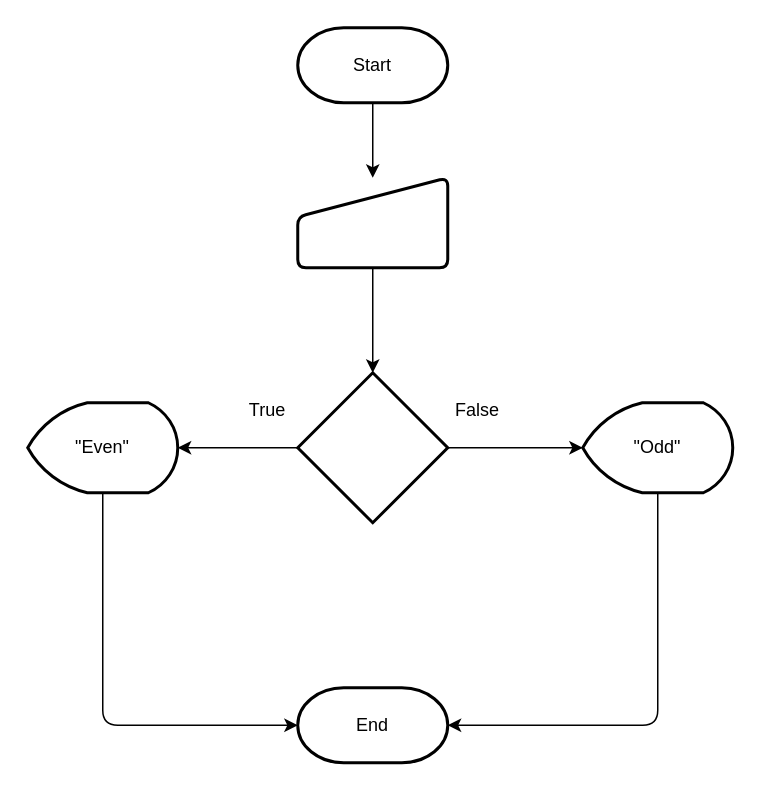
This 759x789 diagram has some shape labels left out. The shapes that lost their labels are listed below. From the top down, each one's box as (x1, y1, x2, y2) in pixels, then its label:
(296, 176, 448, 268): number
(296, 370, 448, 524): number % 2 == 0
